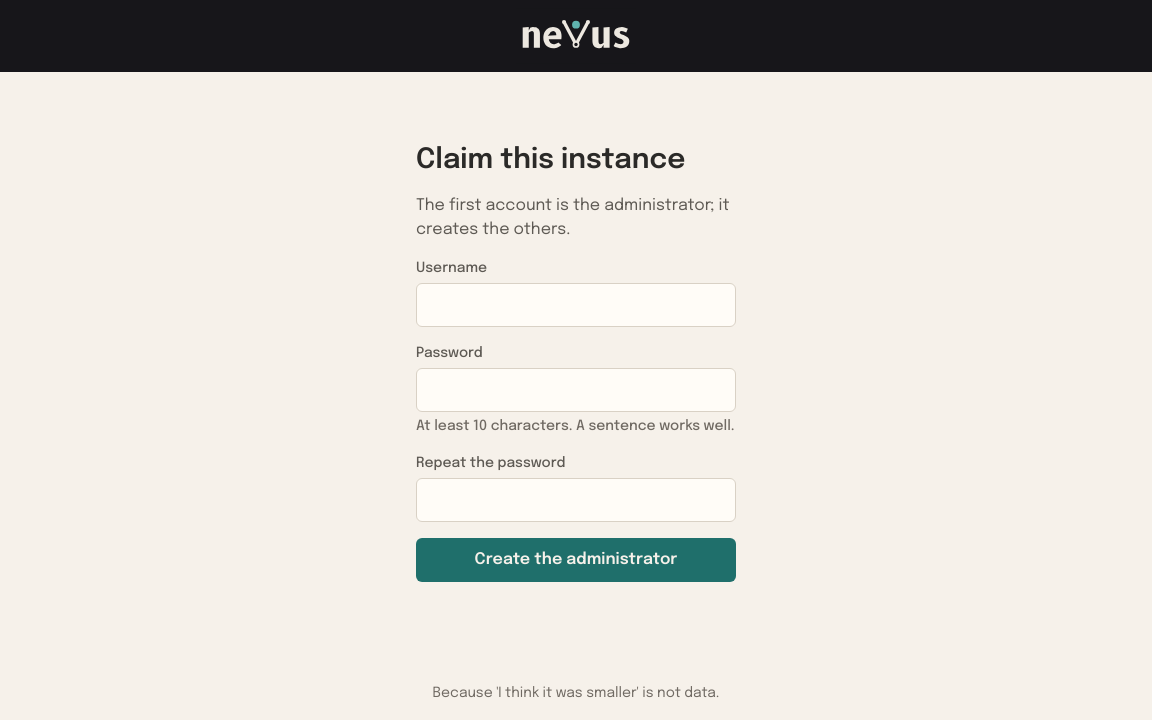
Test: claiming and signing in › sends a visitor of a fresh instance to the claim page and creates the administrator
This screenshot has width=1152, height=720.
Expected: the heading "Claim this instance" is shown, top-left (416, 146), bottom-right (685, 175)
Type "Jose" into the field labelled "Username" at (576, 305), box top-left (416, 283), bottom-right (736, 327)
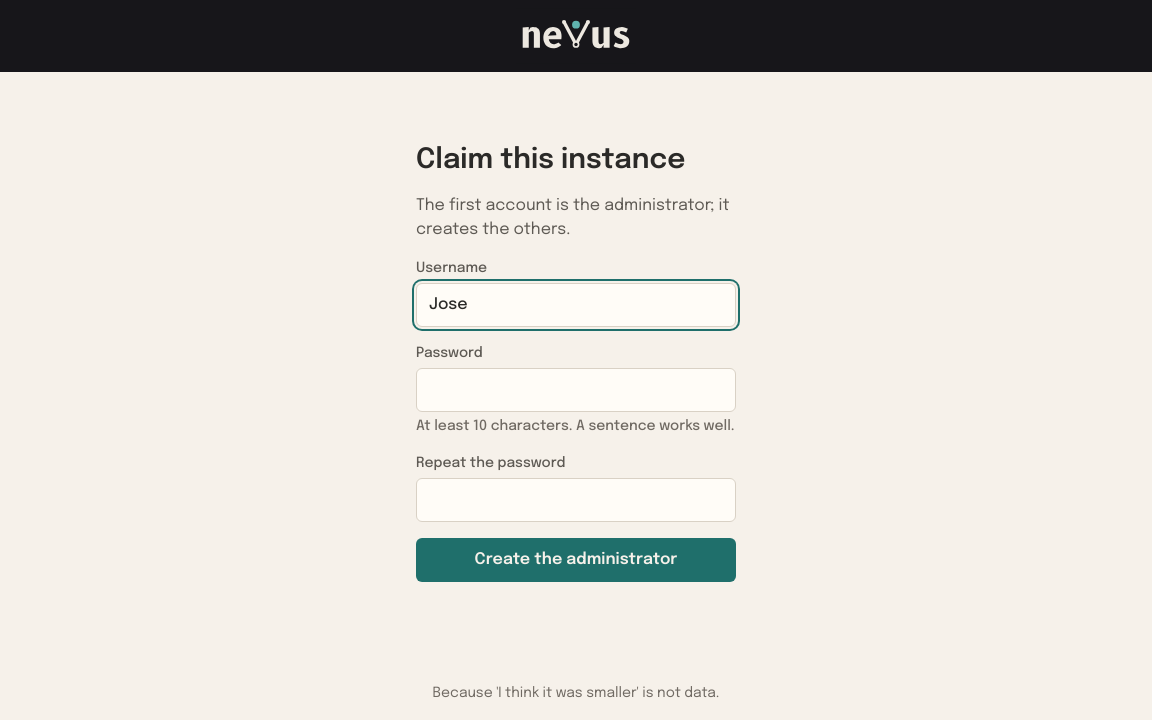
Type "correct horse battery" into the password field labelled "Password" at (576, 390), box top-left (416, 368), bottom-right (736, 412)
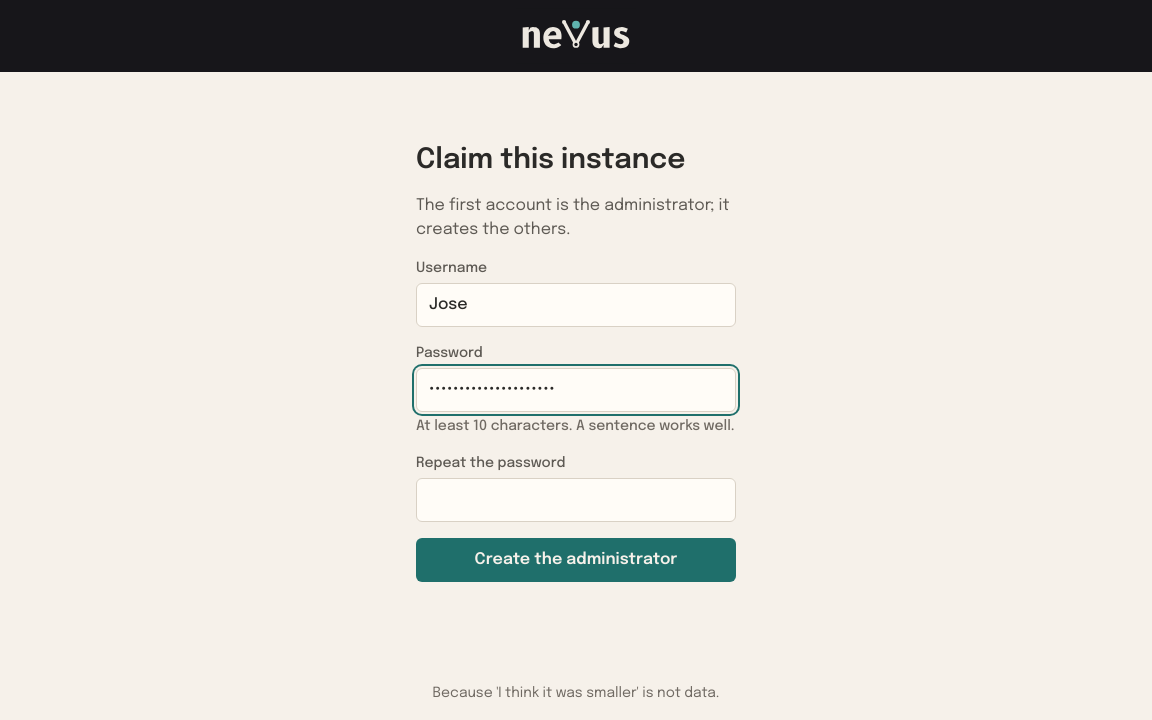
Type "correct horse battery" into the password field labelled "Repeat the password" at (576, 500), box top-left (416, 478), bottom-right (736, 522)
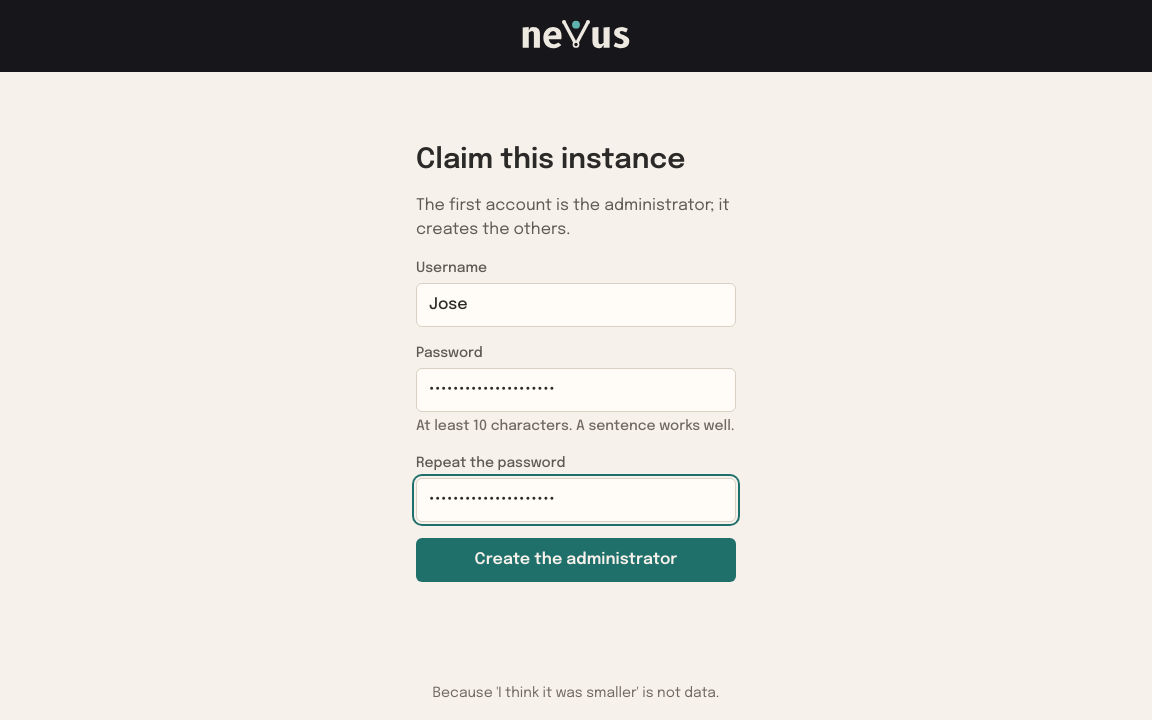
Click the button "Create the administrator" at (576, 560), box top-left (416, 538), bottom-right (736, 582)
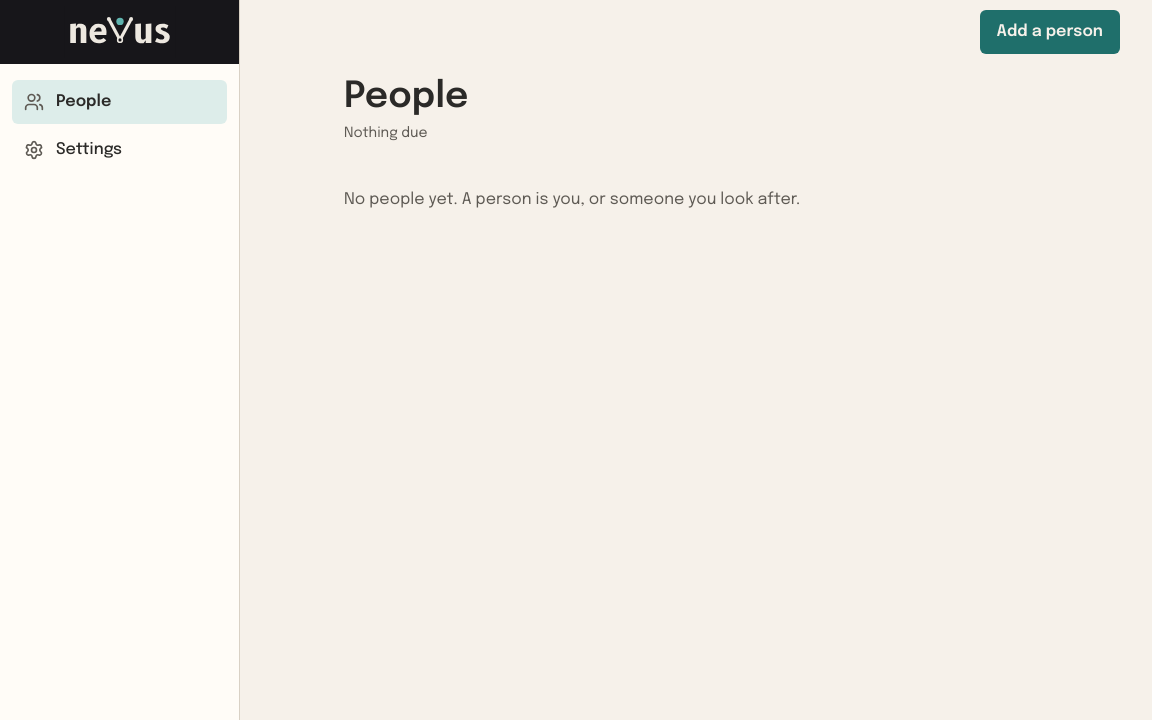
Expected: the heading "People" is shown, top-left (344, 79), bottom-right (468, 115)
